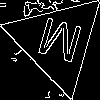M: (32, 16, 85, 72)
